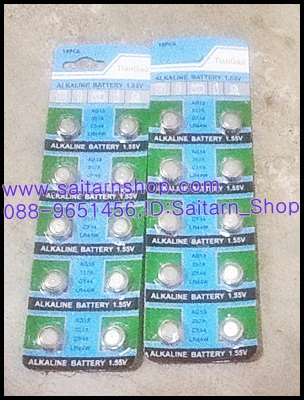Battery: (151, 151, 189, 186), (213, 312, 249, 347), (99, 263, 134, 297), (98, 321, 130, 357), (31, 321, 65, 354), (156, 313, 186, 349), (39, 266, 70, 297), (155, 260, 188, 289), (55, 110, 82, 144), (219, 154, 247, 185), (219, 258, 245, 290), (157, 107, 186, 135), (114, 112, 141, 142), (218, 206, 247, 233), (217, 110, 245, 136)
